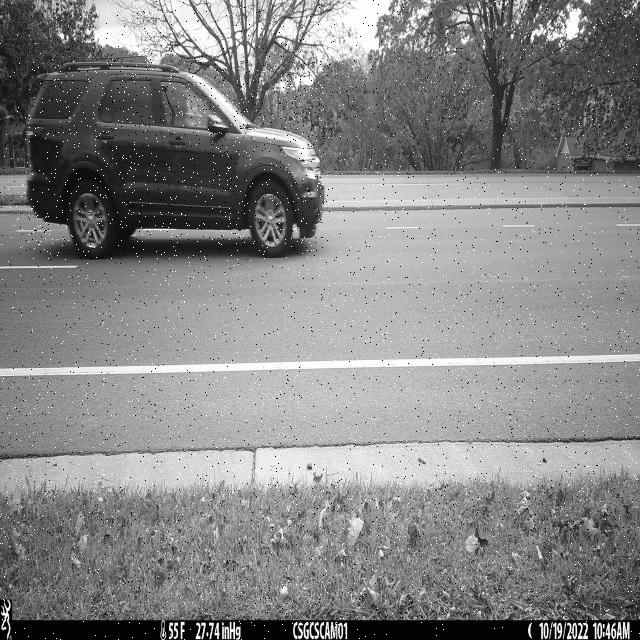SUV: (26, 61, 325, 260)
